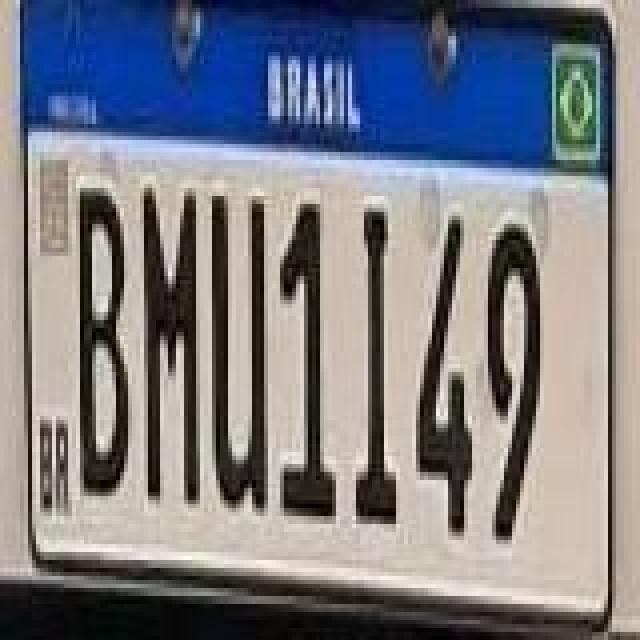1: (278, 200, 338, 528)
4: (414, 208, 474, 544)
9: (482, 220, 542, 548)
B: (76, 184, 132, 504)
I: (354, 200, 398, 536)
M: (138, 180, 198, 508)
U: (210, 188, 270, 516)
